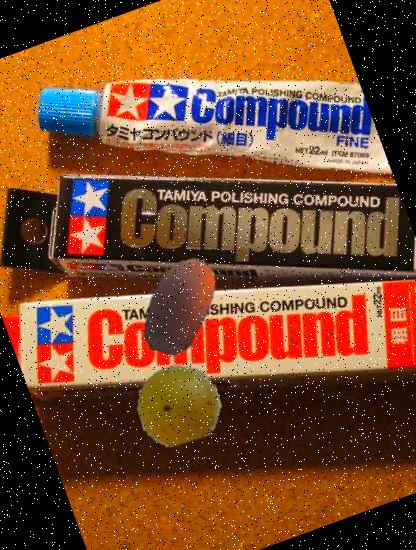Grape: (126, 352, 231, 456)
Hazelnut: (117, 239, 248, 370)
